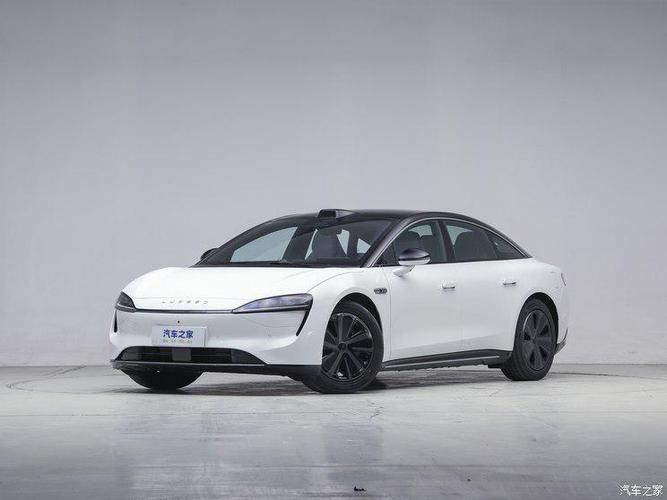汽车: (89, 196, 606, 411)
